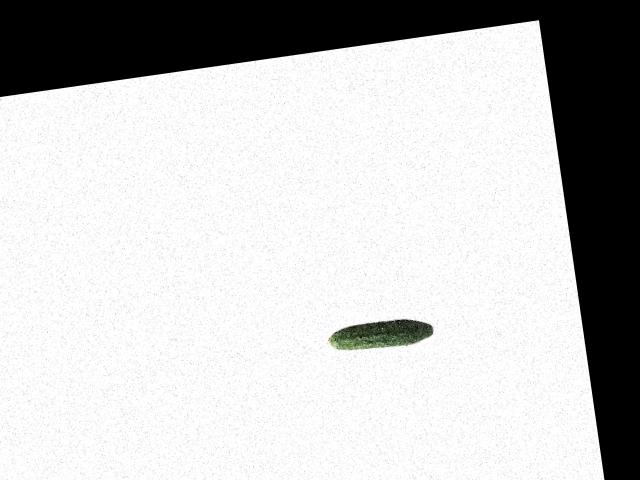cucumber: (326, 314, 435, 355)
